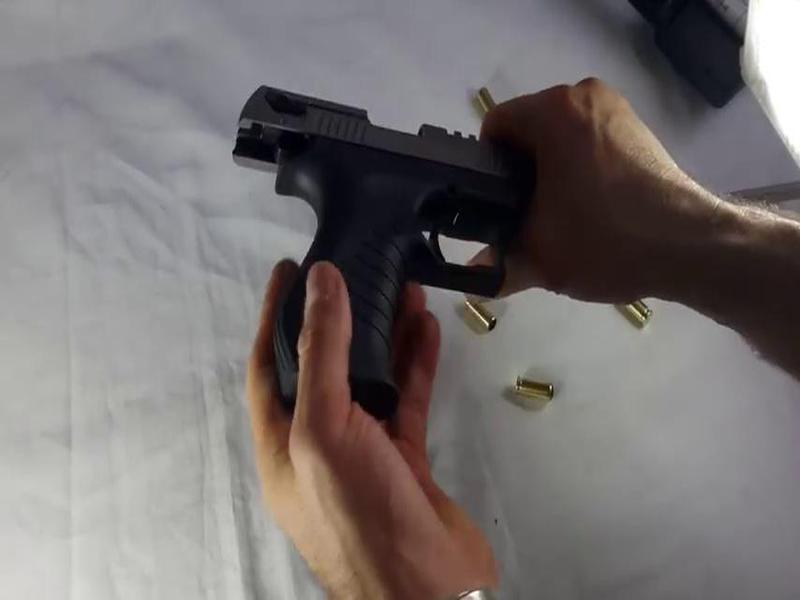Pistola: (206, 61, 567, 425)
